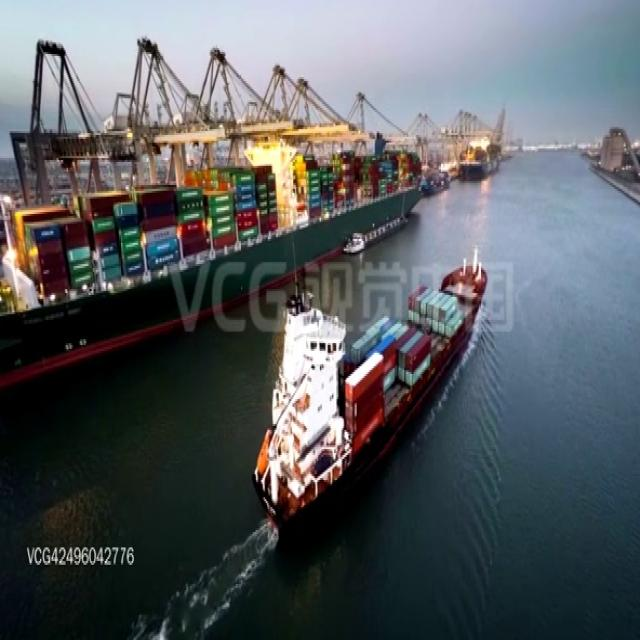cargoship: (0, 141, 451, 335), (267, 282, 482, 536)
